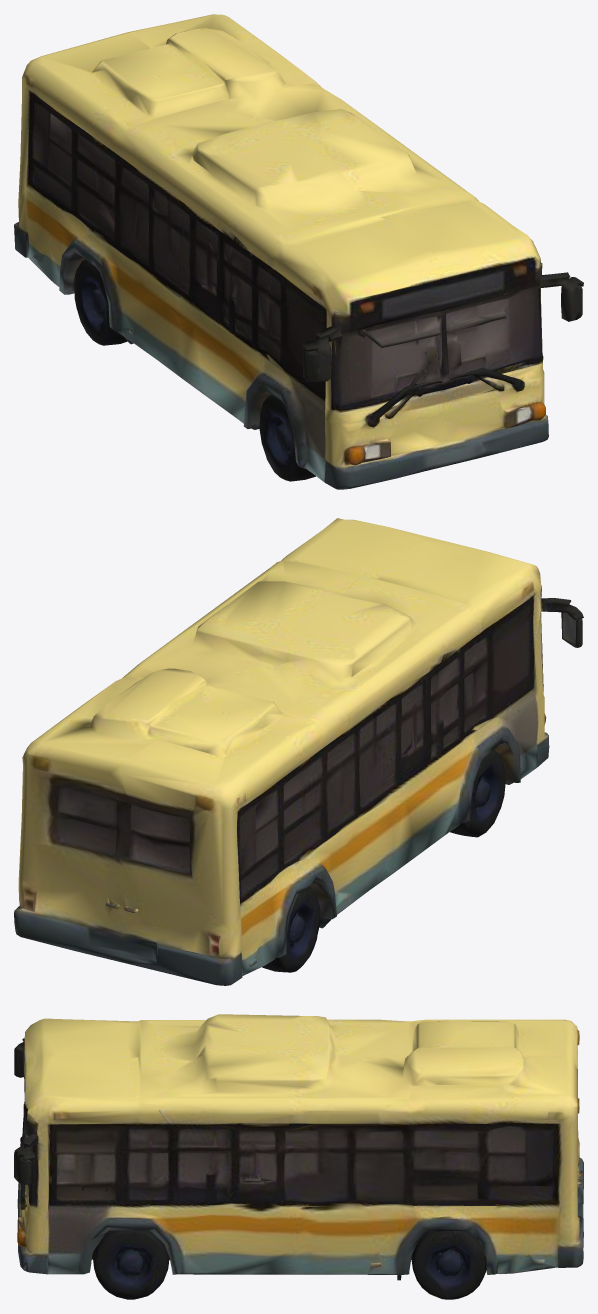
The model's file is bus.glb.
3 views of the same model, one above another, from view 1: azimuth 30°, elevation 25°; view 2: azimuth 150°, elevation 25°; view 3: azimuth 270°, elevation 25° (orthographic). The views are drawn at different scales.
Parts seen in each view (by area): view 1: RushHourOriginalTripoBus_forwardPlusZ; view 2: RushHourOriginalTripoBus_forwardPlusZ; view 3: RushHourOriginalTripoBus_forwardPlusZ.
Part boxes in pixels (<box>): RushHourOriginalTripoBus_forwardPlusZ: <box>14,14,583,489</box>; RushHourOriginalTripoBus_forwardPlusZ: <box>14,518,583,985</box>; RushHourOriginalTripoBus_forwardPlusZ: <box>14,1014,583,1299</box>.
Size of the model in its own units: 0.4858 by 0.4196 by 1.
1 material, 1 textured.
